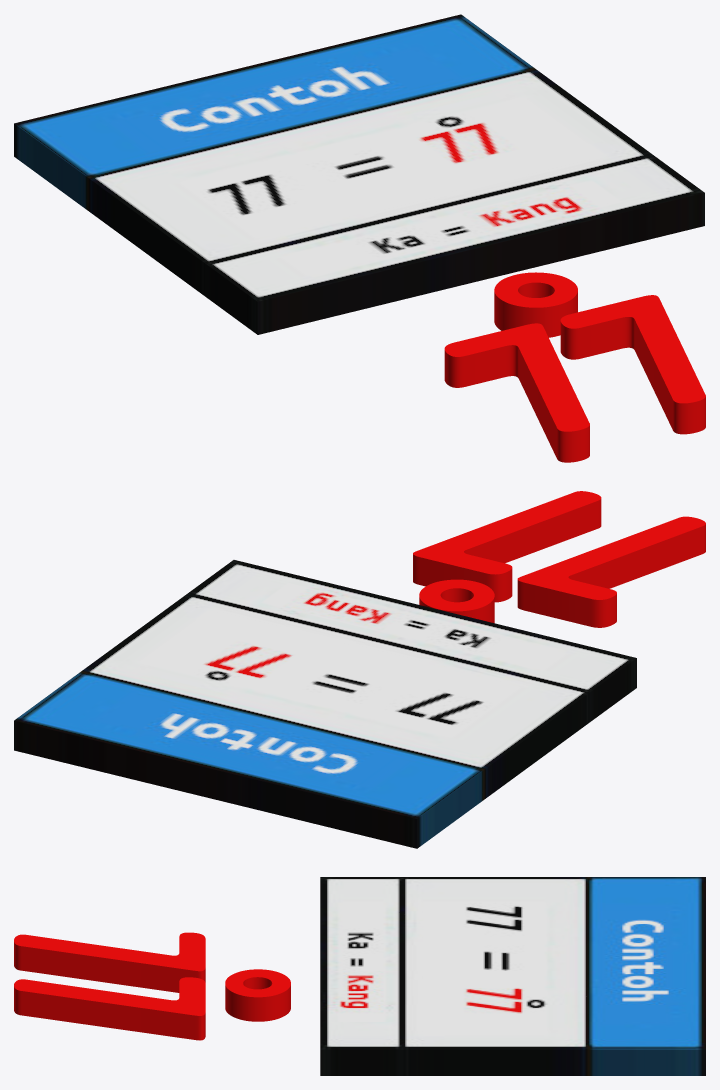
Rendered from kang.fbx.
3 views of the same model, one above another, from view 1: azimuth 30°, elevation 25°; view 2: azimuth 150°, elevation 25°; view 3: azimuth 270°, elevation 25° (orthographic). The views are drawn at different scales.
Parts seen in each view (by area): view 1: contoh-ng-Rarangken, Text; view 2: contoh-ng-Rarangken, Text; view 3: contoh-ng-Rarangken, Text.
Part boxes in pixels (x1=…): contoh-ng-Rarangken: x1=14, y1=14, x2=704, y2=334; Text: x1=444, y1=272, x2=705, y2=462; contoh-ng-Rarangken: x1=14, y1=560, x2=636, y2=848; Text: x1=413, y1=491, x2=705, y2=627; contoh-ng-Rarangken: x1=320, y1=877, x2=705, y2=1075; Text: x1=14, y1=932, x2=290, y2=1040.
Bounding box in the file's own units: 1.06 × 0.11 × 1.79.
2 materials, 1 textured.
